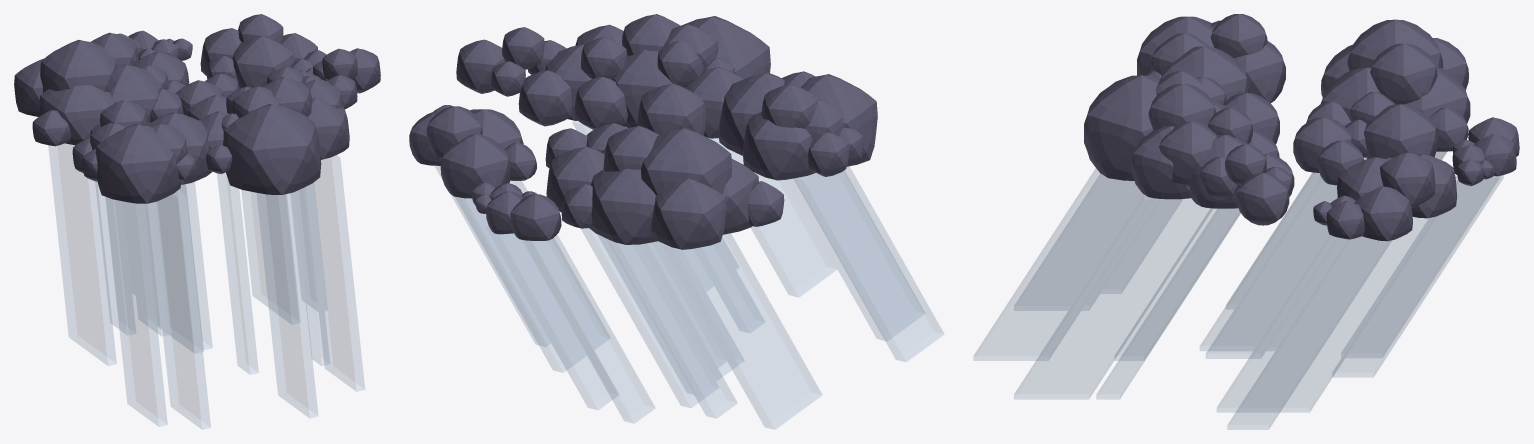
Rendered from storm.fbx.
3 renders of one model, left to right at view 1: azimuth 30°, elevation 25°; view 2: azimuth 150°, elevation 25°; view 3: azimuth 270°, elevation 25°, orthographic. The views are drawn at different scales.
Visible parts, largest first — view 1: Icosphere.051; view 2: Icosphere.051; view 3: Icosphere.051.
Boxes of the visible parts, <box> form: Icosphere.051: <box>14,14,380,429</box>; Icosphere.051: <box>409,14,943,429</box>; Icosphere.051: <box>973,14,1519,429</box>.
Bounding box in the file's own units: 1137 × 916 × 1454.
